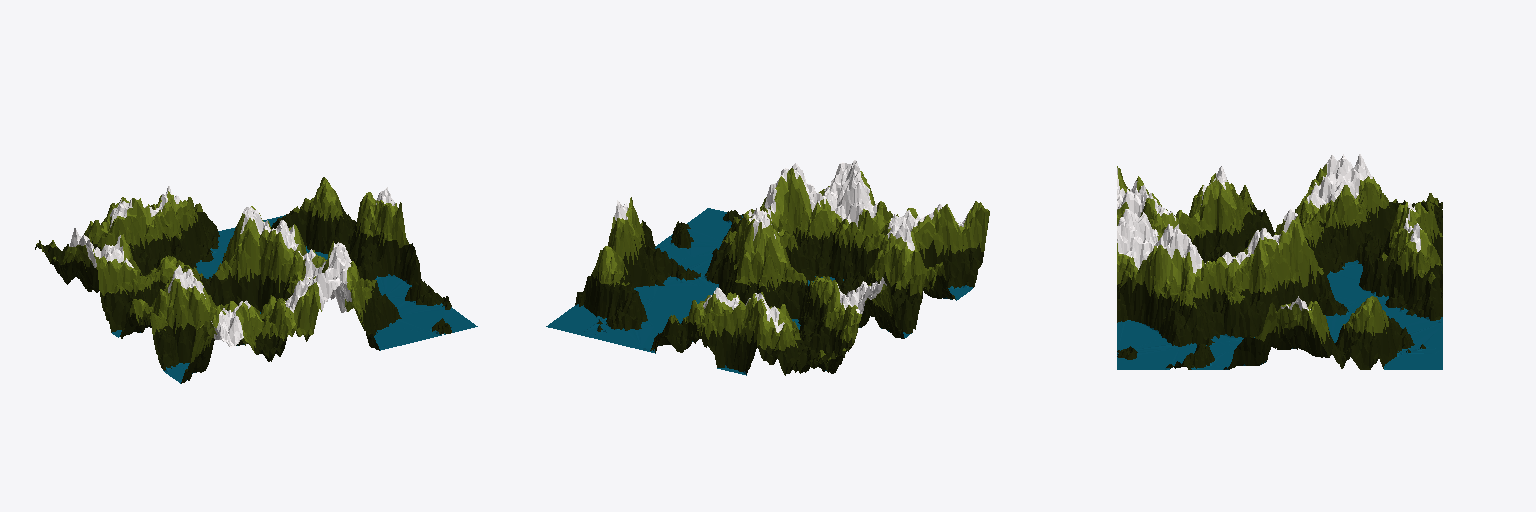
The picture shows the model from 3 angles: view 1: azimuth 30°, elevation 25°; view 2: azimuth 150°, elevation 25°; view 3: azimuth 270°, elevation 25°; orthographic projection.
Visible parts, largest first — view 1: Plane; view 2: Plane; view 3: Plane.
Part boxes in pixels (left/top/right/bottom): Plane: left=35, top=177, right=477, bottom=383; Plane: left=546, top=160, right=989, bottom=375; Plane: left=1117, top=154, right=1442, bottom=369.
Size of the model in its own units: 474 by 147 by 474.
Materials: 1 (1 with a texture image).